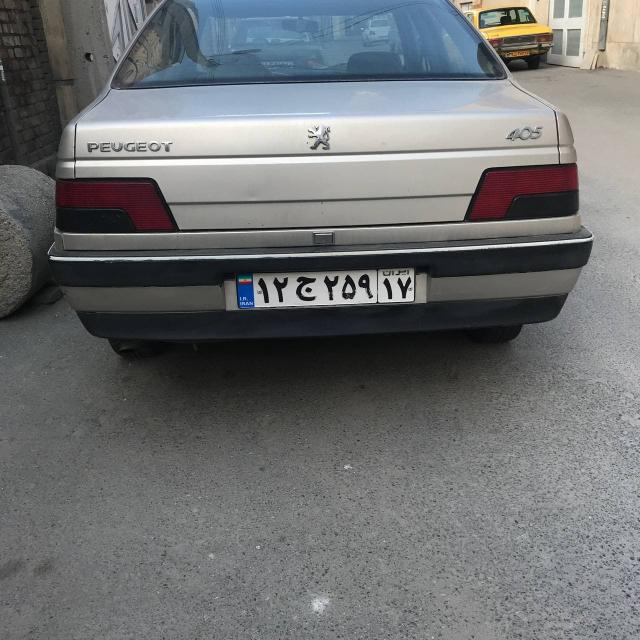Plates: (237, 265, 416, 309)
